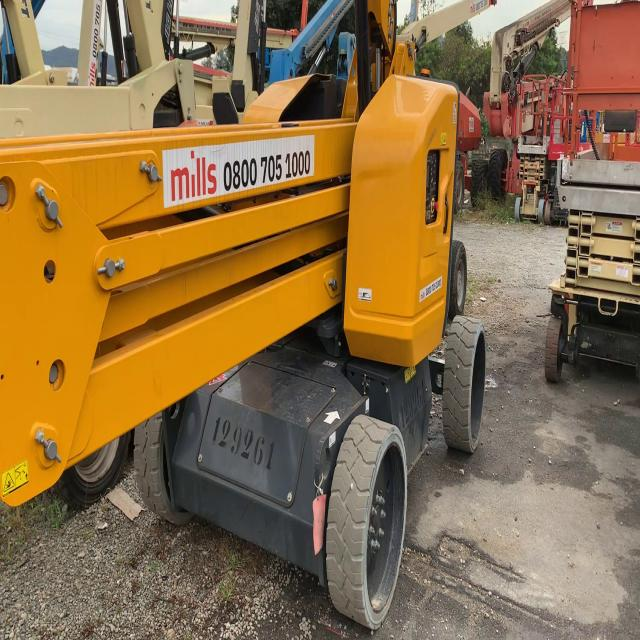Adesivo Longo: (161, 132, 316, 212), (419, 275, 442, 304)
